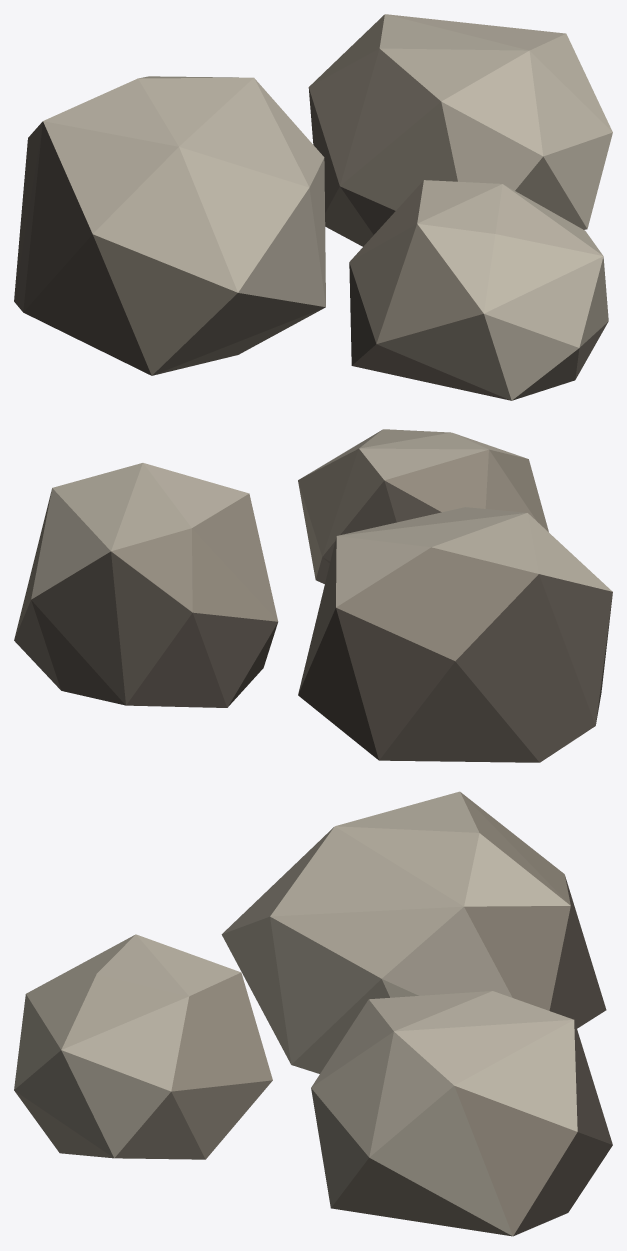
File: stone_mediumTrio.glb
The picture shows the model from 3 angles, top to bottom: view 1: azimuth 30°, elevation 25°; view 2: azimuth 150°, elevation 25°; view 3: azimuth 270°, elevation 25°; orthographic projection. The views are drawn at different scales.
Parts seen in each view (by area): view 1: stone_mediumTrio.002; view 2: stone_mediumTrio.002; view 3: stone_mediumTrio.002.
Part boxes in pixels (x1,y1,x2,y2): stone_mediumTrio.002: (14,14,612,400); stone_mediumTrio.002: (14,429,612,762); stone_mediumTrio.002: (14,791,612,1236).
Size of the model in its own units: 0.5 by 0.1842 by 0.4492.
